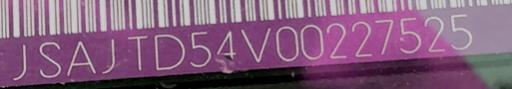letter: (238, 24, 272, 63), (152, 34, 186, 71), (66, 40, 96, 77), (348, 19, 374, 58), (273, 24, 299, 63), (186, 29, 212, 68), (36, 39, 62, 78), (448, 11, 472, 50), (422, 13, 446, 52), (398, 15, 422, 54), (324, 20, 348, 59), (125, 34, 149, 73), (372, 18, 396, 55), (300, 23, 324, 60), (214, 27, 238, 64), (8, 42, 28, 81), (100, 36, 118, 75)
